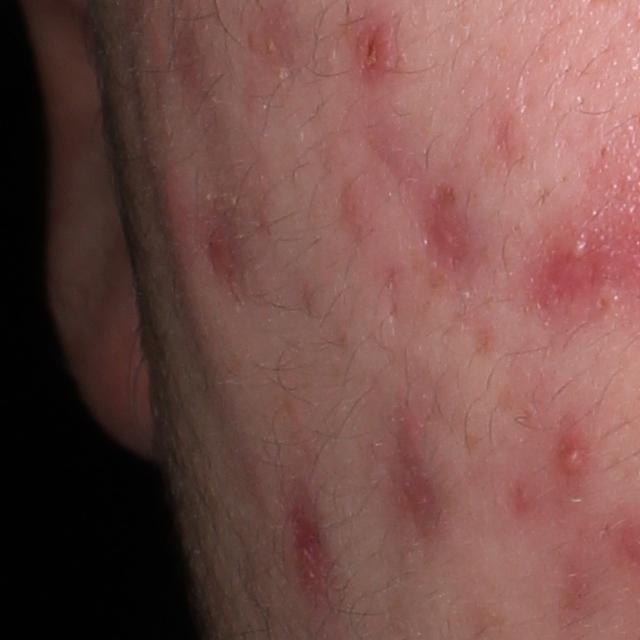atrophic_scar: (368, 430, 446, 538), (417, 176, 487, 275), (285, 485, 340, 594), (204, 190, 257, 295)
papule: (350, 16, 396, 86), (555, 429, 583, 480)
